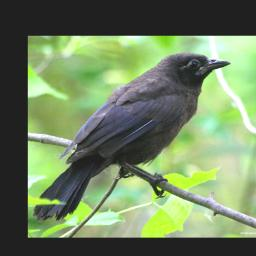Crow: (31, 51, 231, 223)
